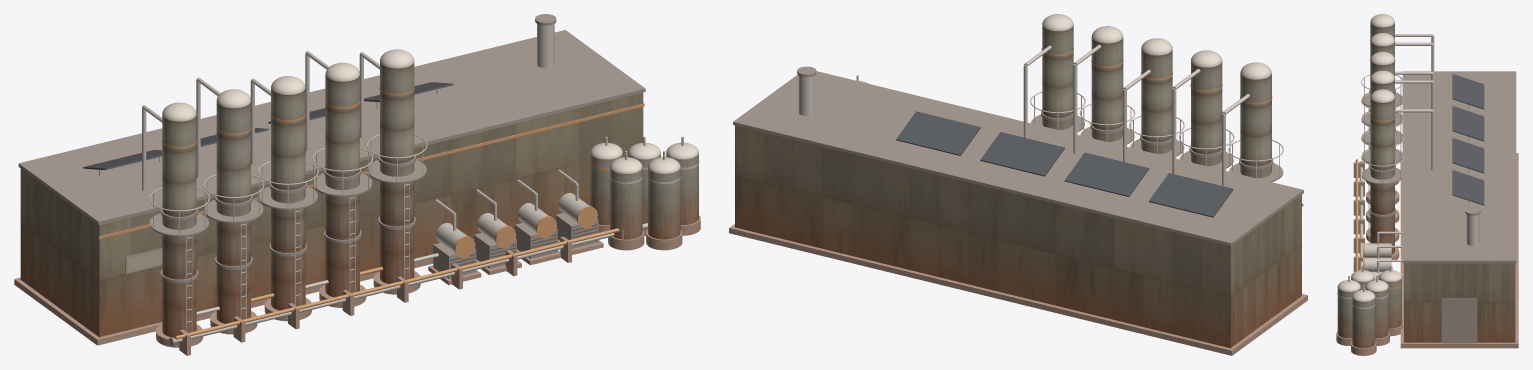
Rendered from E12_fuel_plant_large.glb.
3 views of the same model, side by side, from view 1: azimuth 30°, elevation 25°; view 2: azimuth 150°, elevation 25°; view 3: azimuth 270°, elevation 25° (orthographic). The views are drawn at different scales.
Parts seen in each view (by area): view 1: process_hall, roof_edge, column, object 5, foundation, storage_tank, window_strip; view 2: process_hall, roof_edge, column, foundation, object 5; view 3: roof_edge, process_hall, column, object 5, foundation, storage_tank.
Part boxes in pixels (box(x1,y1,x2,y2)): process_hall: box(20, 49, 698, 339); roof_edge: box(18, 14, 645, 345); column: box(162, 62, 414, 337); object 5: box(99, 24, 699, 343); foundation: box(14, 215, 700, 355); storage_tank: box(590, 154, 698, 239); window_strip: box(127, 250, 162, 272); process_hall: box(735, 14, 1303, 348); roof_edge: box(733, 66, 1303, 246); column: box(1042, 26, 1271, 178); foundation: box(729, 224, 1307, 355); object 5: box(798, 44, 1283, 189); roof_edge: box(1359, 71, 1516, 343); process_hall: box(1337, 14, 1515, 342); column: box(1370, 23, 1394, 254); object 5: box(1337, 34, 1479, 308); foundation: box(1336, 153, 1518, 355); storage_tank: box(1337, 278, 1401, 348).
Bounding box in the file's own units: 21.13 × 8.18 × 8.18.
8 materials, 3 textured.
